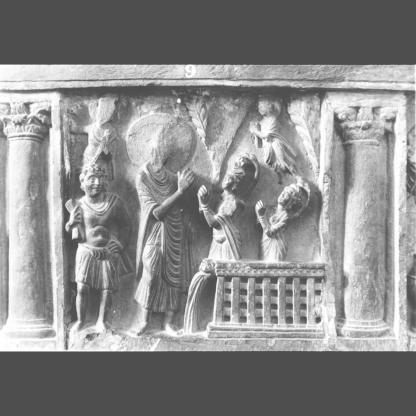buddha-standing: (126, 113, 197, 335)
